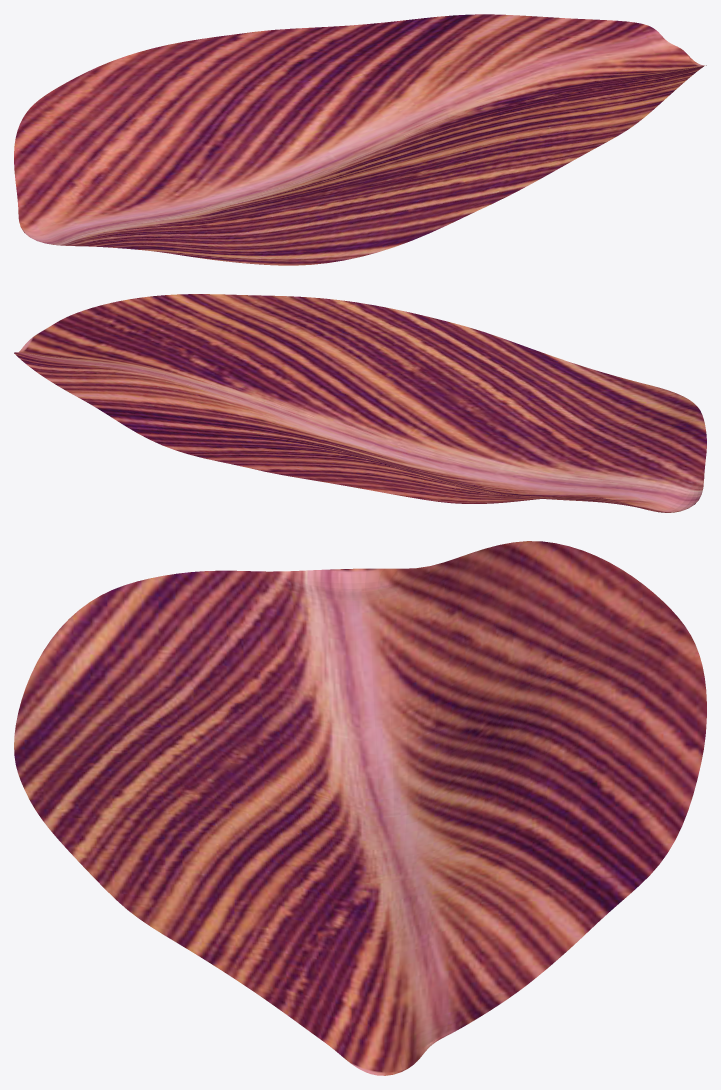
File: leaf_c3.2.glb
The picture shows the model from 3 angles, top to bottom: view 1: azimuth 30°, elevation 25°; view 2: azimuth 150°, elevation 25°; view 3: azimuth 270°, elevation 25°; orthographic projection. The views are drawn at different scales.
Visible parts, largest first — view 1: Circle.015; view 2: Circle.015; view 3: Circle.015.
Part boxes in pixels (<box>): Circle.015: <box>14,14,706,265</box>; Circle.015: <box>14,294,706,512</box>; Circle.015: <box>14,541,706,1075</box>.
Size of the model in its own units: 0.9999 by 0.086 by 0.5781.
Materials: 1 (1 with a texture image).
